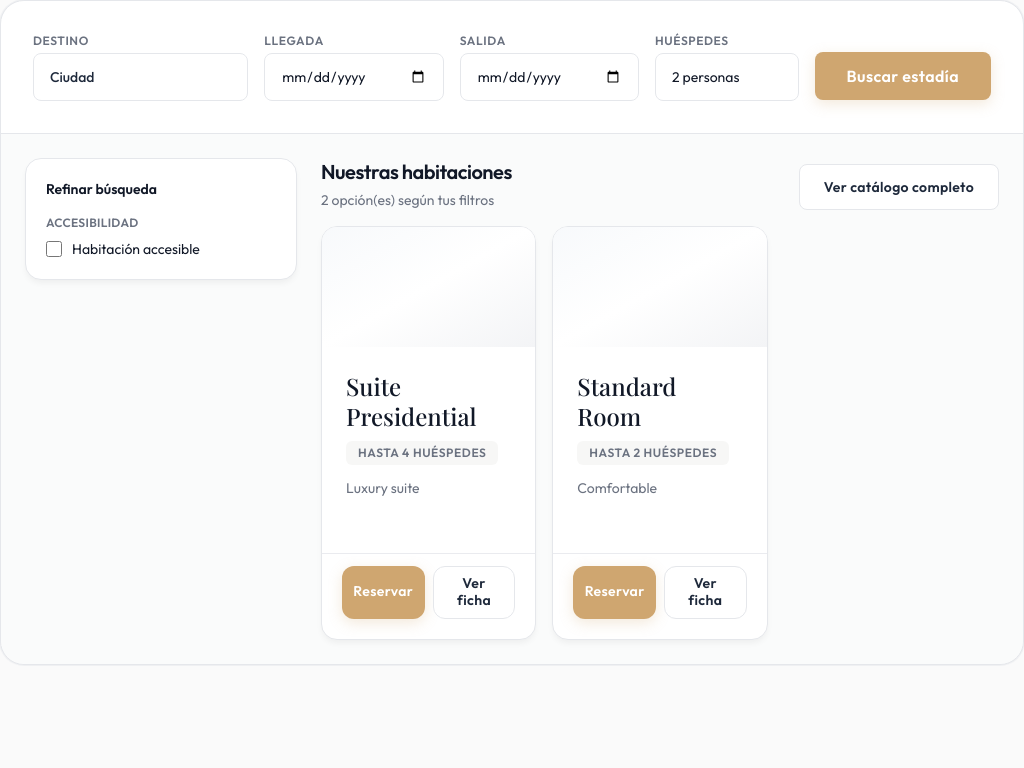
Test: HomeExplorer (Basic Component Test) › debe filtrar habitaciones según la cantidad de huéspedes
This screenshot has width=1024, height=768.
Expected: the heading "Suite Presidential" is shown, [346,370,477,432]
Expected: the heading "Standard Room" is shown, [577,370,676,432]
Select "3 personas" in the dropdown with test id "guests-select" at (727, 77), box [655,53,799,101]
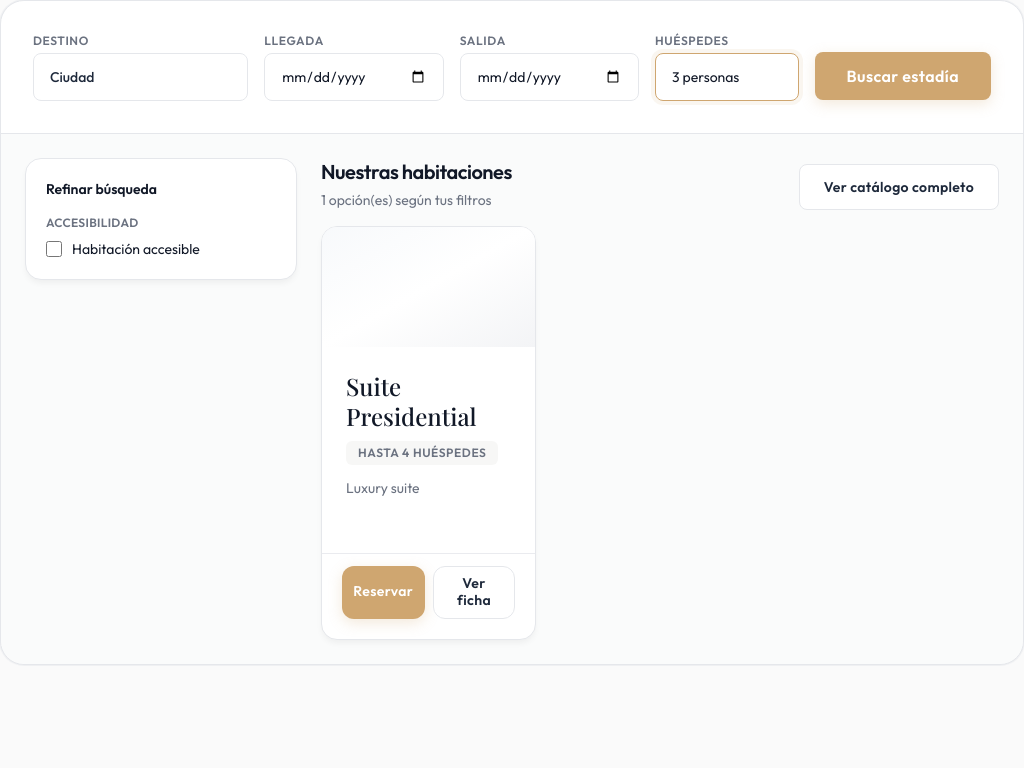
Expected: the heading "Suite Presidential" is shown, [346,370,477,432]
Expected: the link "Standard Room" is gone
